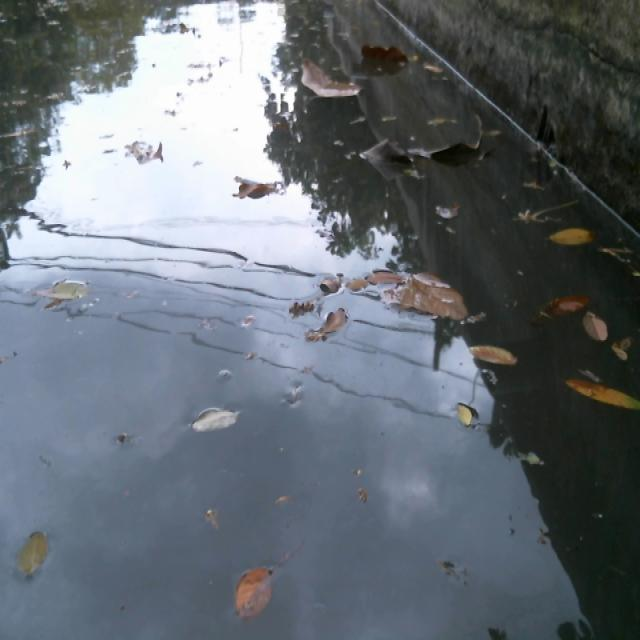Big-leaf: (382, 263, 469, 331), (293, 52, 359, 107), (414, 130, 492, 167), (364, 132, 410, 176), (362, 40, 415, 70)
Small-leaf: (568, 375, 640, 421), (225, 164, 283, 205), (510, 195, 584, 221), (35, 274, 88, 310), (540, 288, 582, 330), (239, 565, 274, 615), (17, 527, 48, 582), (464, 341, 517, 371), (315, 306, 352, 345), (195, 405, 239, 434), (551, 228, 598, 250), (125, 137, 164, 163), (516, 447, 547, 474), (430, 198, 459, 224), (288, 293, 316, 318), (317, 271, 343, 297), (584, 312, 607, 341), (367, 265, 398, 285), (454, 401, 474, 430), (344, 274, 370, 295), (424, 58, 448, 80)
